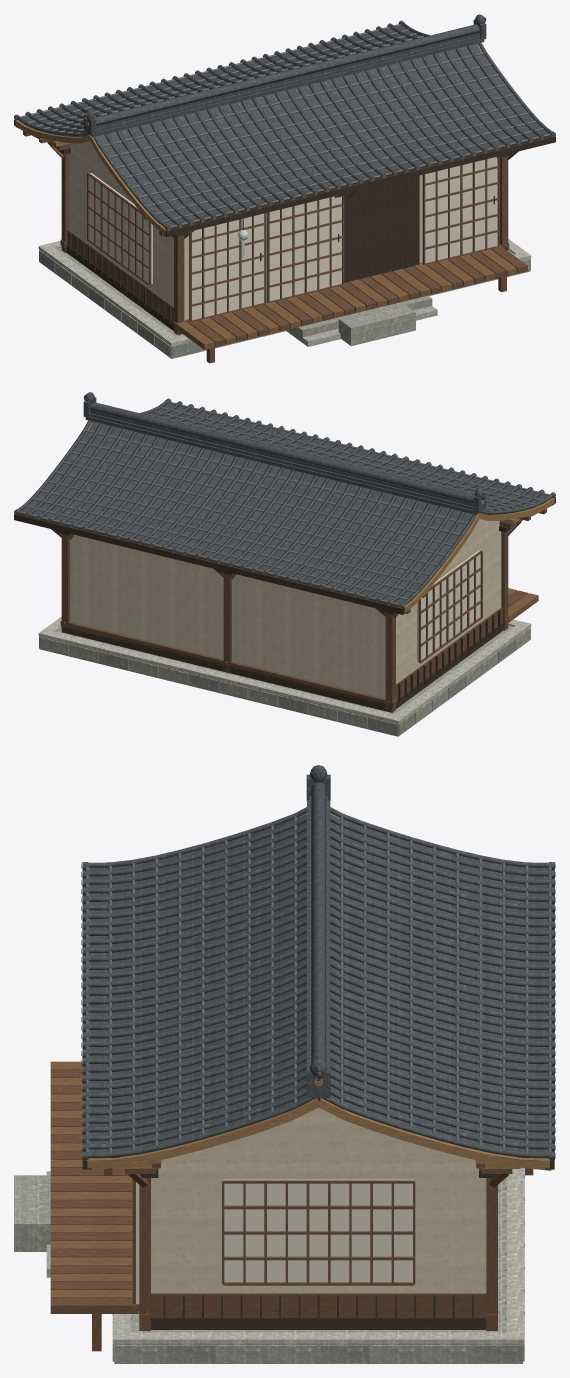
Rendered from shrine_residence-exterior-refined-v1.glb.
3 views of the same model, one above another, from view 1: azimuth 30°, elevation 25°; view 2: azimuth 150°, elevation 25°; view 3: azimuth 270°, elevation 25° (orthographic). The views are drawn at different scales.
Visible parts, largest first — view 1: shrine_residence_01_原有建筑轮廓与构件_EX_50565a_dark_rock_surface, shrine_residence_02_屋顶瓦作_EX_50565a_dark_rock_surface, shrine_residence_01_原有建筑轮廓与构件_EX_71533d_fine_grained_wood_su, shrine_residence_03_窗面与灯具_EX_e6deca_Paper001_window, shrine_residence_01_原有建筑轮廓与构件_EX_41362b_fine_grained_wood_su, shrine_residence_01_原有建筑轮廓与构件_EX_6d7070_plain_surface, shrine_residence_01_原有建筑轮廓与构件_EX_856444_fine_grained_wood_su, shrine_residence_01_原有建筑轮廓与构件_EX_a4a49a_dark_rock_surface, shrine_residence_01_原有建筑轮廓与构件_EX_d5c8ae_grey_plaster_surface, shrine_residence_01_原有建筑轮廓与构件_EX_bebdaf_dark_rock_surface, shrine_residence_01_原有建筑轮廓与构件_EX_a17c51_fine_grained_wood_su, shrine_residence_01_原有建筑轮廓与构件_EX_92968b_dark_rock_surface (+1 smaller); view 2: shrine_residence_01_原有建筑轮廓与构件_EX_d5c8ae_grey_plaster_surface, shrine_residence_01_原有建筑轮廓与构件_EX_50565a_dark_rock_surface, shrine_residence_02_屋顶瓦作_EX_50565a_dark_rock_surface, shrine_residence_01_原有建筑轮廓与构件_EX_6d7070_plain_surface, shrine_residence_01_原有建筑轮廓与构件_EX_71533d_fine_grained_wood_su, shrine_residence_01_原有建筑轮廓与构件_EX_41362b_fine_grained_wood_su, shrine_residence_01_原有建筑轮廓与构件_EX_a4a49a_dark_rock_surface, shrine_residence_01_原有建筑轮廓与构件_EX_bebdaf_dark_rock_surface, shrine_residence_03_窗面与灯具_EX_e6deca_Paper001_window, shrine_residence_01_原有建筑轮廓与构件_EX_92968b_dark_rock_surface, shrine_residence_01_原有建筑轮廓与构件_EX_a17c51_fine_grained_wood_su, shrine_residence_01_原有建筑轮廓与构件_EX_856444_fine_grained_wood_su; view 3: shrine_residence_01_原有建筑轮廓与构件_EX_50565a_dark_rock_surface, shrine_residence_02_屋顶瓦作_EX_50565a_dark_rock_surface, shrine_residence_01_原有建筑轮廓与构件_EX_d5c8ae_grey_plaster_surface, shrine_residence_01_原有建筑轮廓与构件_EX_71533d_fine_grained_wood_su, shrine_residence_03_窗面与灯具_EX_e6deca_Paper001_window, shrine_residence_01_原有建筑轮廓与构件_EX_6d7070_plain_surface, shrine_residence_01_原有建筑轮廓与构件_EX_a4a49a_dark_rock_surface, shrine_residence_01_原有建筑轮廓与构件_EX_bebdaf_dark_rock_surface, shrine_residence_01_原有建筑轮廓与构件_EX_856444_fine_grained_wood_su, shrine_residence_01_原有建筑轮廓与构件_EX_41362b_fine_grained_wood_su, shrine_residence_01_原有建筑轮廓与构件_EX_a17c51_fine_grained_wood_su, shrine_residence_01_原有建筑轮廓与构件_EX_92968b_dark_rock_surface.
Boxes of the visible parts, x1,y1,x2,y2 form: shrine_residence_01_原有建筑轮廓与构件_EX_50565a_dark_rock_surface: [14, 19, 555, 231]; shrine_residence_02_屋顶瓦作_EX_50565a_dark_rock_surface: [22, 25, 548, 225]; shrine_residence_01_原有建筑轮廓与构件_EX_71533d_fine_grained_wood_su: [23, 131, 527, 363]; shrine_residence_03_窗面与灯具_EX_e6deca_Paper001_window: [89, 157, 497, 320]; shrine_residence_01_原有建筑轮廓与构件_EX_41362b_fine_grained_wood_su: [14, 119, 555, 334]; shrine_residence_01_原有建筑轮廓与构件_EX_6d7070_plain_surface: [20, 24, 550, 227]; shrine_residence_01_原有建筑轮廓与构件_EX_856444_fine_grained_wood_su: [174, 249, 517, 349]; shrine_residence_01_原有建筑轮廓与构件_EX_a4a49a_dark_rock_surface: [39, 247, 530, 358]; shrine_residence_01_原有建筑轮廓与构件_EX_d5c8ae_grey_plaster_surface: [68, 141, 422, 320]; shrine_residence_01_原有建筑轮廓与构件_EX_bebdaf_dark_rock_surface: [38, 239, 531, 345]; shrine_residence_01_原有建筑轮廓与构件_EX_a17c51_fine_grained_wood_su: [15, 45, 550, 234]; shrine_residence_01_原有建筑轮廓与构件_EX_92968b_dark_rock_surface: [39, 250, 469, 357]; shrine_residence_01_原有建筑轮廓与构件_EX_d5c8ae_grey_plaster_surface: [70, 519, 501, 698]; shrine_residence_01_原有建筑轮廓与构件_EX_50565a_dark_rock_surface: [14, 397, 555, 608]; shrine_residence_02_屋顶瓦作_EX_50565a_dark_rock_surface: [21, 403, 547, 603]; shrine_residence_01_原有建筑轮廓与构件_EX_6d7070_plain_surface: [19, 401, 549, 605]; shrine_residence_01_原有建筑轮廓与构件_EX_71533d_fine_grained_wood_su: [51, 509, 546, 712]; shrine_residence_01_原有建筑轮廓与构件_EX_41362b_fine_grained_wood_su: [14, 497, 555, 712]; shrine_residence_01_原有建筑轮廓与构件_EX_a4a49a_dark_rock_surface: [39, 625, 530, 736]; shrine_residence_01_原有建筑轮廓与构件_EX_bebdaf_dark_rock_surface: [38, 616, 531, 723]; shrine_residence_03_窗面与灯具_EX_e6deca_Paper001_window: [417, 550, 480, 661]; shrine_residence_01_原有建筑轮廓与构件_EX_92968b_dark_rock_surface: [39, 636, 514, 735]; shrine_residence_01_原有建筑轮廓与构件_EX_a17c51_fine_grained_wood_su: [19, 423, 554, 612]; shrine_residence_01_原有建筑轮廓与构件_EX_856444_fine_grained_wood_su: [507, 588, 538, 622]; shrine_residence_01_原有建筑轮廓与构件_EX_50565a_dark_rock_surface: [82, 774, 554, 1159]; shrine_residence_02_屋顶瓦作_EX_50565a_dark_rock_surface: [89, 814, 548, 1152]; shrine_residence_01_原有建筑轮廓与构件_EX_d5c8ae_grey_plaster_surface: [151, 1107, 486, 1293]; shrine_residence_01_原有建筑轮廓与构件_EX_71533d_fine_grained_wood_su: [50, 1070, 533, 1351]; shrine_residence_03_窗面与灯具_EX_e6deca_Paper001_window: [136, 1179, 413, 1303]; shrine_residence_01_原有建筑轮廓与构件_EX_6d7070_plain_surface: [85, 816, 551, 1152]; shrine_residence_01_原有建筑轮廓与构件_EX_a4a49a_dark_rock_surface: [14, 1168, 524, 1363]; shrine_residence_01_原有建筑轮廓与构件_EX_bebdaf_dark_rock_surface: [113, 1167, 523, 1343]; shrine_residence_01_原有建筑轮廓与构件_EX_856444_fine_grained_wood_su: [50, 1061, 132, 1297]; shrine_residence_01_原有建筑轮廓与构件_EX_41362b_fine_grained_wood_su: [82, 869, 554, 1329]; shrine_residence_01_原有建筑轮廓与构件_EX_a17c51_fine_grained_wood_su: [86, 813, 551, 1170]; shrine_residence_01_原有建筑轮廓与构件_EX_92968b_dark_rock_surface: [166, 1210, 524, 1362].
Size of the model in its own units: 18.6 by 9.35 by 14.05.
Materials: 18 (14 with a texture image).
